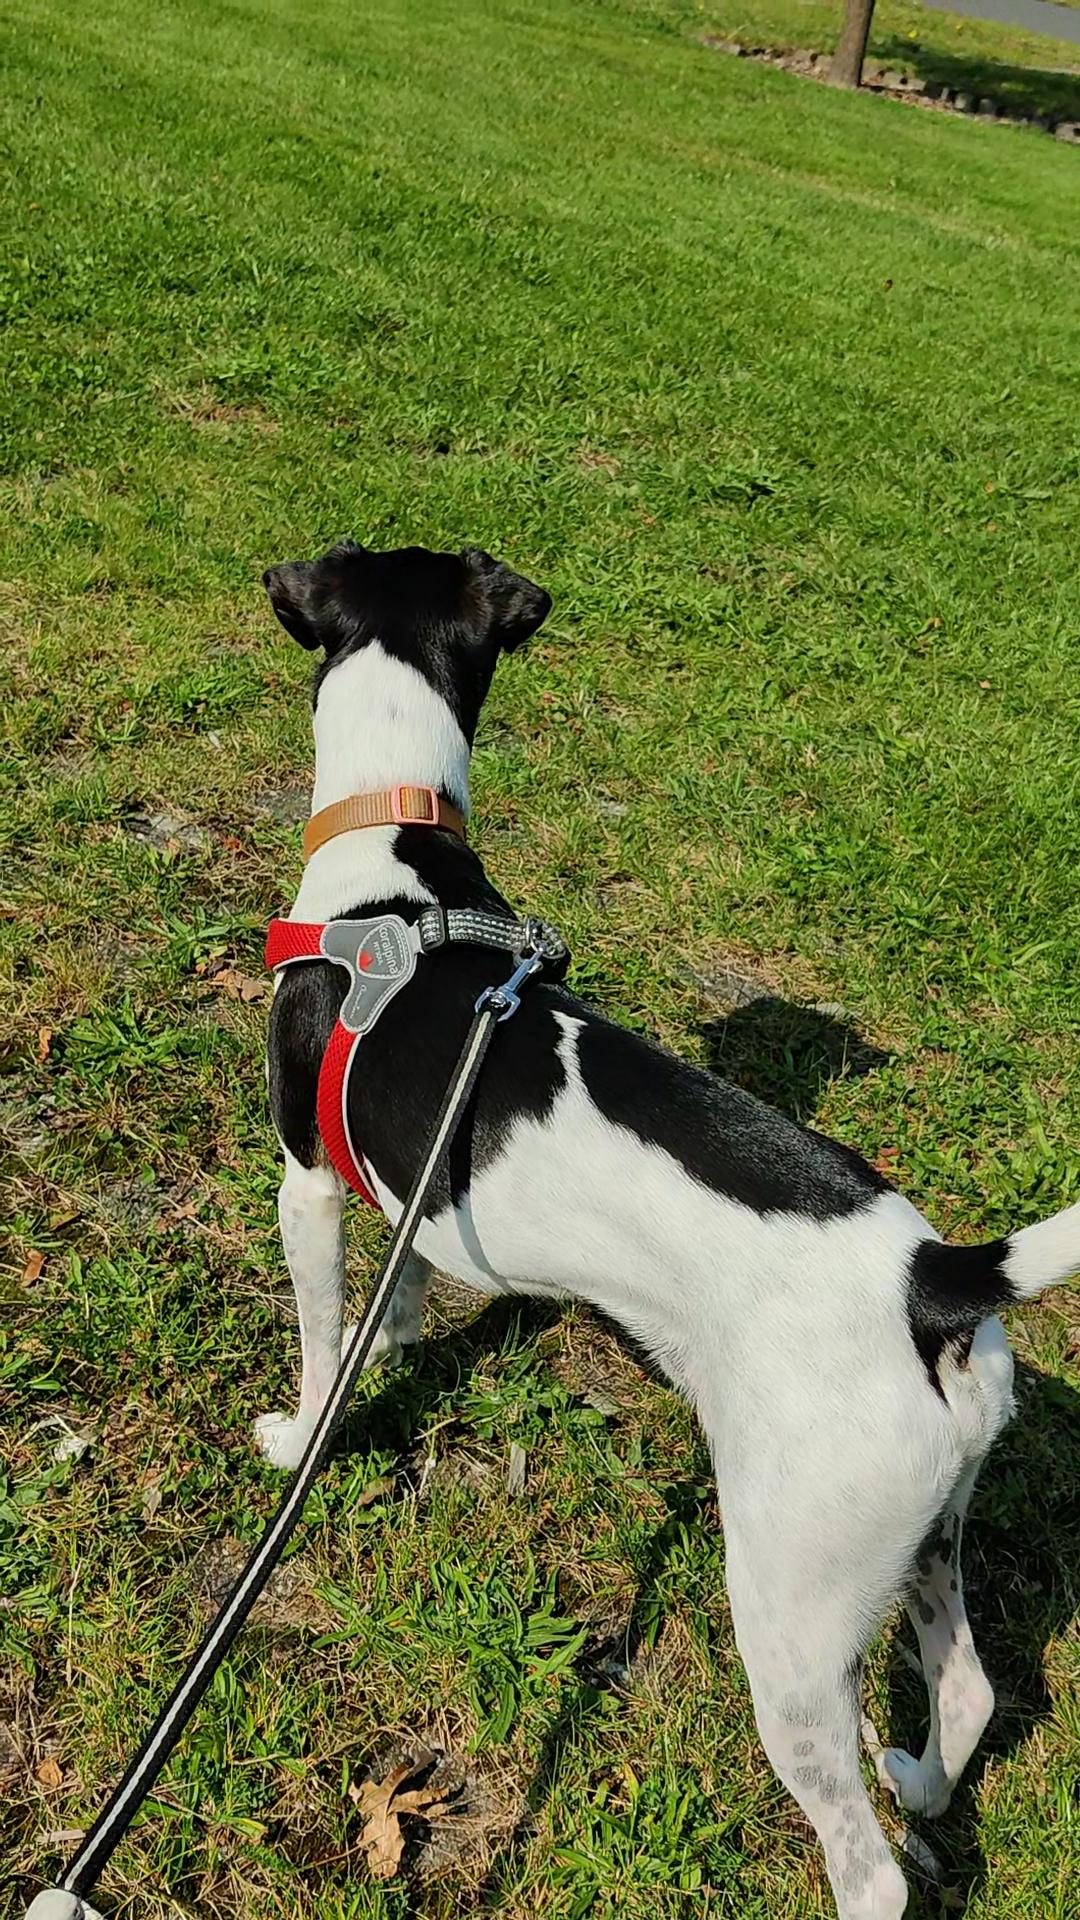Dog: (231, 521, 1079, 1919)
